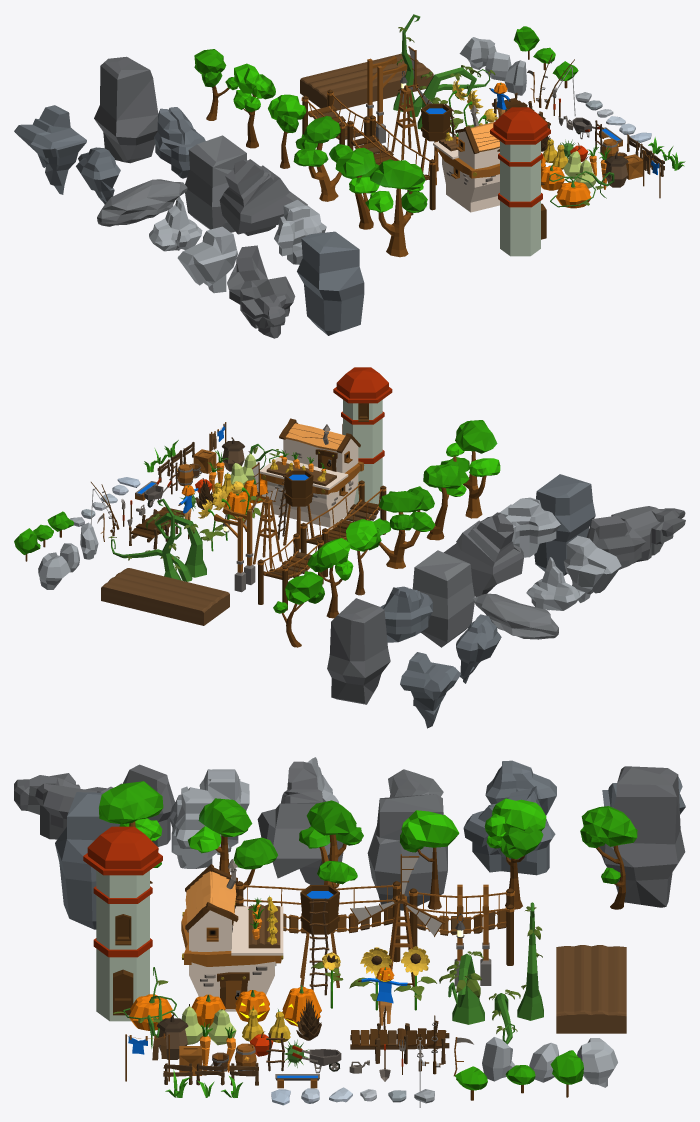
3 renders of one model, top to bottom at view 1: azimuth 30°, elevation 25°; view 2: azimuth 150°, elevation 25°; view 3: azimuth 270°, elevation 25°, orthographic. The views are drawn at different scales.
Visible parts, largest first — view 1: scilo, Mountain_11, Mountain_12, house, Mountain_1, Mountain_4, Mountain_10, ground, Flat_tree_1, Mountain_3, Mountain_6, Mountain_7 (+22 smaller); view 2: house, Mountain_12, ground, scilo, Mountain_10, Mountain_4, Mountain_1, Mountain_11, Flat_tree_1, Mountain_3, Mountain_6, Flat_tree_2 (+20 smaller); view 3: scilo, house, Mountain_12, ground, Mountain_10, Mountain_1, Mountain_11, Mountain_4, Flat_tree_3, Tree_1, Flat_tree_2, Mountain_9 (+36 smaller).
Part boxes in pixels (x1,y1,x2,y2): scilo: (490, 107, 550, 256); Mountain_11: (297, 231, 364, 335); Mountain_12: (94, 56, 158, 163); house: (433, 105, 542, 212); Mountain_1: (219, 159, 307, 235); Mountain_4: (227, 245, 295, 338); Mountain_10: (185, 135, 246, 232); ground: (300, 53, 433, 110); Flat_tree_1: (365, 159, 427, 257); Mountain_3: (14, 105, 86, 194); Mountain_6: (97, 179, 187, 226); Mountain_7: (177, 226, 237, 293); house: (260, 418, 364, 527); Mountain_12: (327, 598, 390, 704); ground: (101, 568, 229, 625); scilo: (333, 367, 392, 504); Mountain_10: (412, 550, 474, 647); Mountain_4: (586, 506, 685, 569); Mountain_1: (444, 512, 523, 596); Mountain_11: (534, 474, 595, 575); Flat_tree_1: (440, 420, 500, 518); Mountain_3: (400, 652, 461, 728); Mountain_6: (473, 593, 558, 639); Flat_tree_2: (373, 491, 435, 568); scilo: (83, 826, 162, 1021); house: (181, 859, 283, 1011); Mountain_12: (599, 766, 685, 907); ground: (556, 945, 626, 1033); Mountain_10: (367, 794, 447, 910); Mountain_1: (257, 761, 343, 884); Mountain_11: (55, 792, 120, 929); Mountain_4: (14, 764, 175, 846); Flat_tree_3: (188, 798, 277, 905); Tree_1: (484, 798, 546, 909); Flat_tree_2: (299, 800, 363, 913); Mountain_9: (463, 786, 555, 875).
Size of the model in its own units: 117 by 36.38 by 103.
2 materials, 2 textured.
